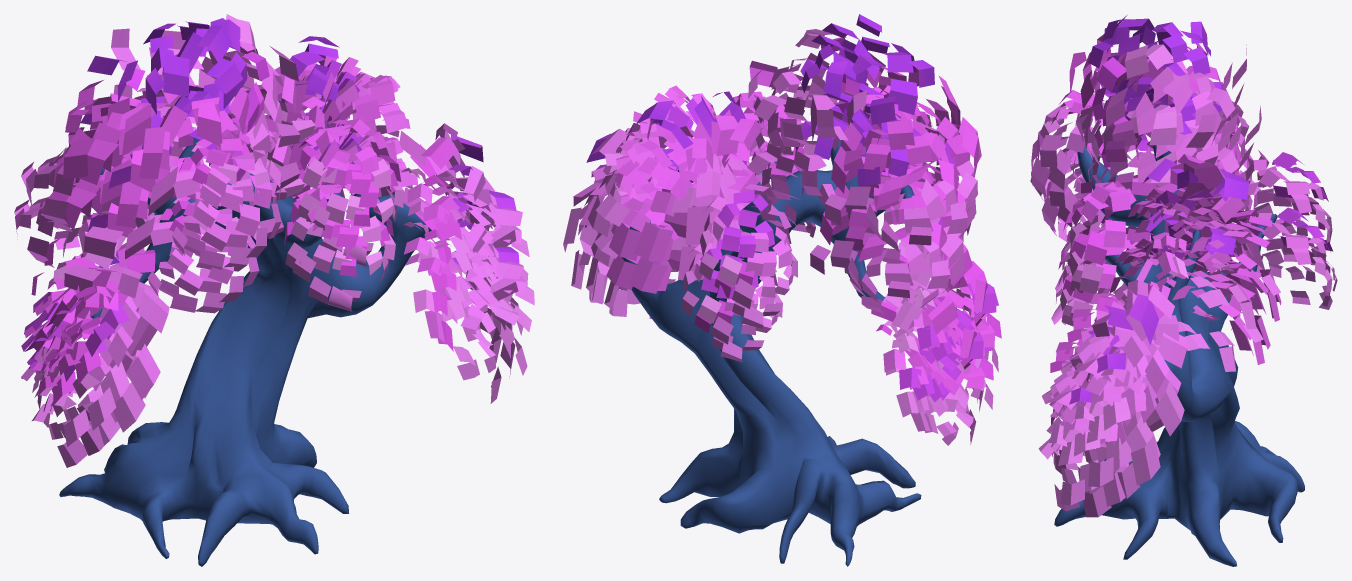
File: Plaza_Tree.fbx
3 views of the same model, side by side, from view 1: azimuth 30°, elevation 25°; view 2: azimuth 150°, elevation 25°; view 3: azimuth 270°, elevation 25° (orthographic). The views are drawn at different scales.
Parts seen in each view (by area): view 1: Plaza_Tree; view 2: Plaza_Tree; view 3: Plaza_Tree.
Boxes of the visible parts, x1,y1,x2,y2 form: Plaza_Tree: (14,14,534,566); Plaza_Tree: (563,14,1001,566); Plaza_Tree: (1030,15,1337,566).
Size of the model in its own units: 65.05 by 69.1 by 39.87.
